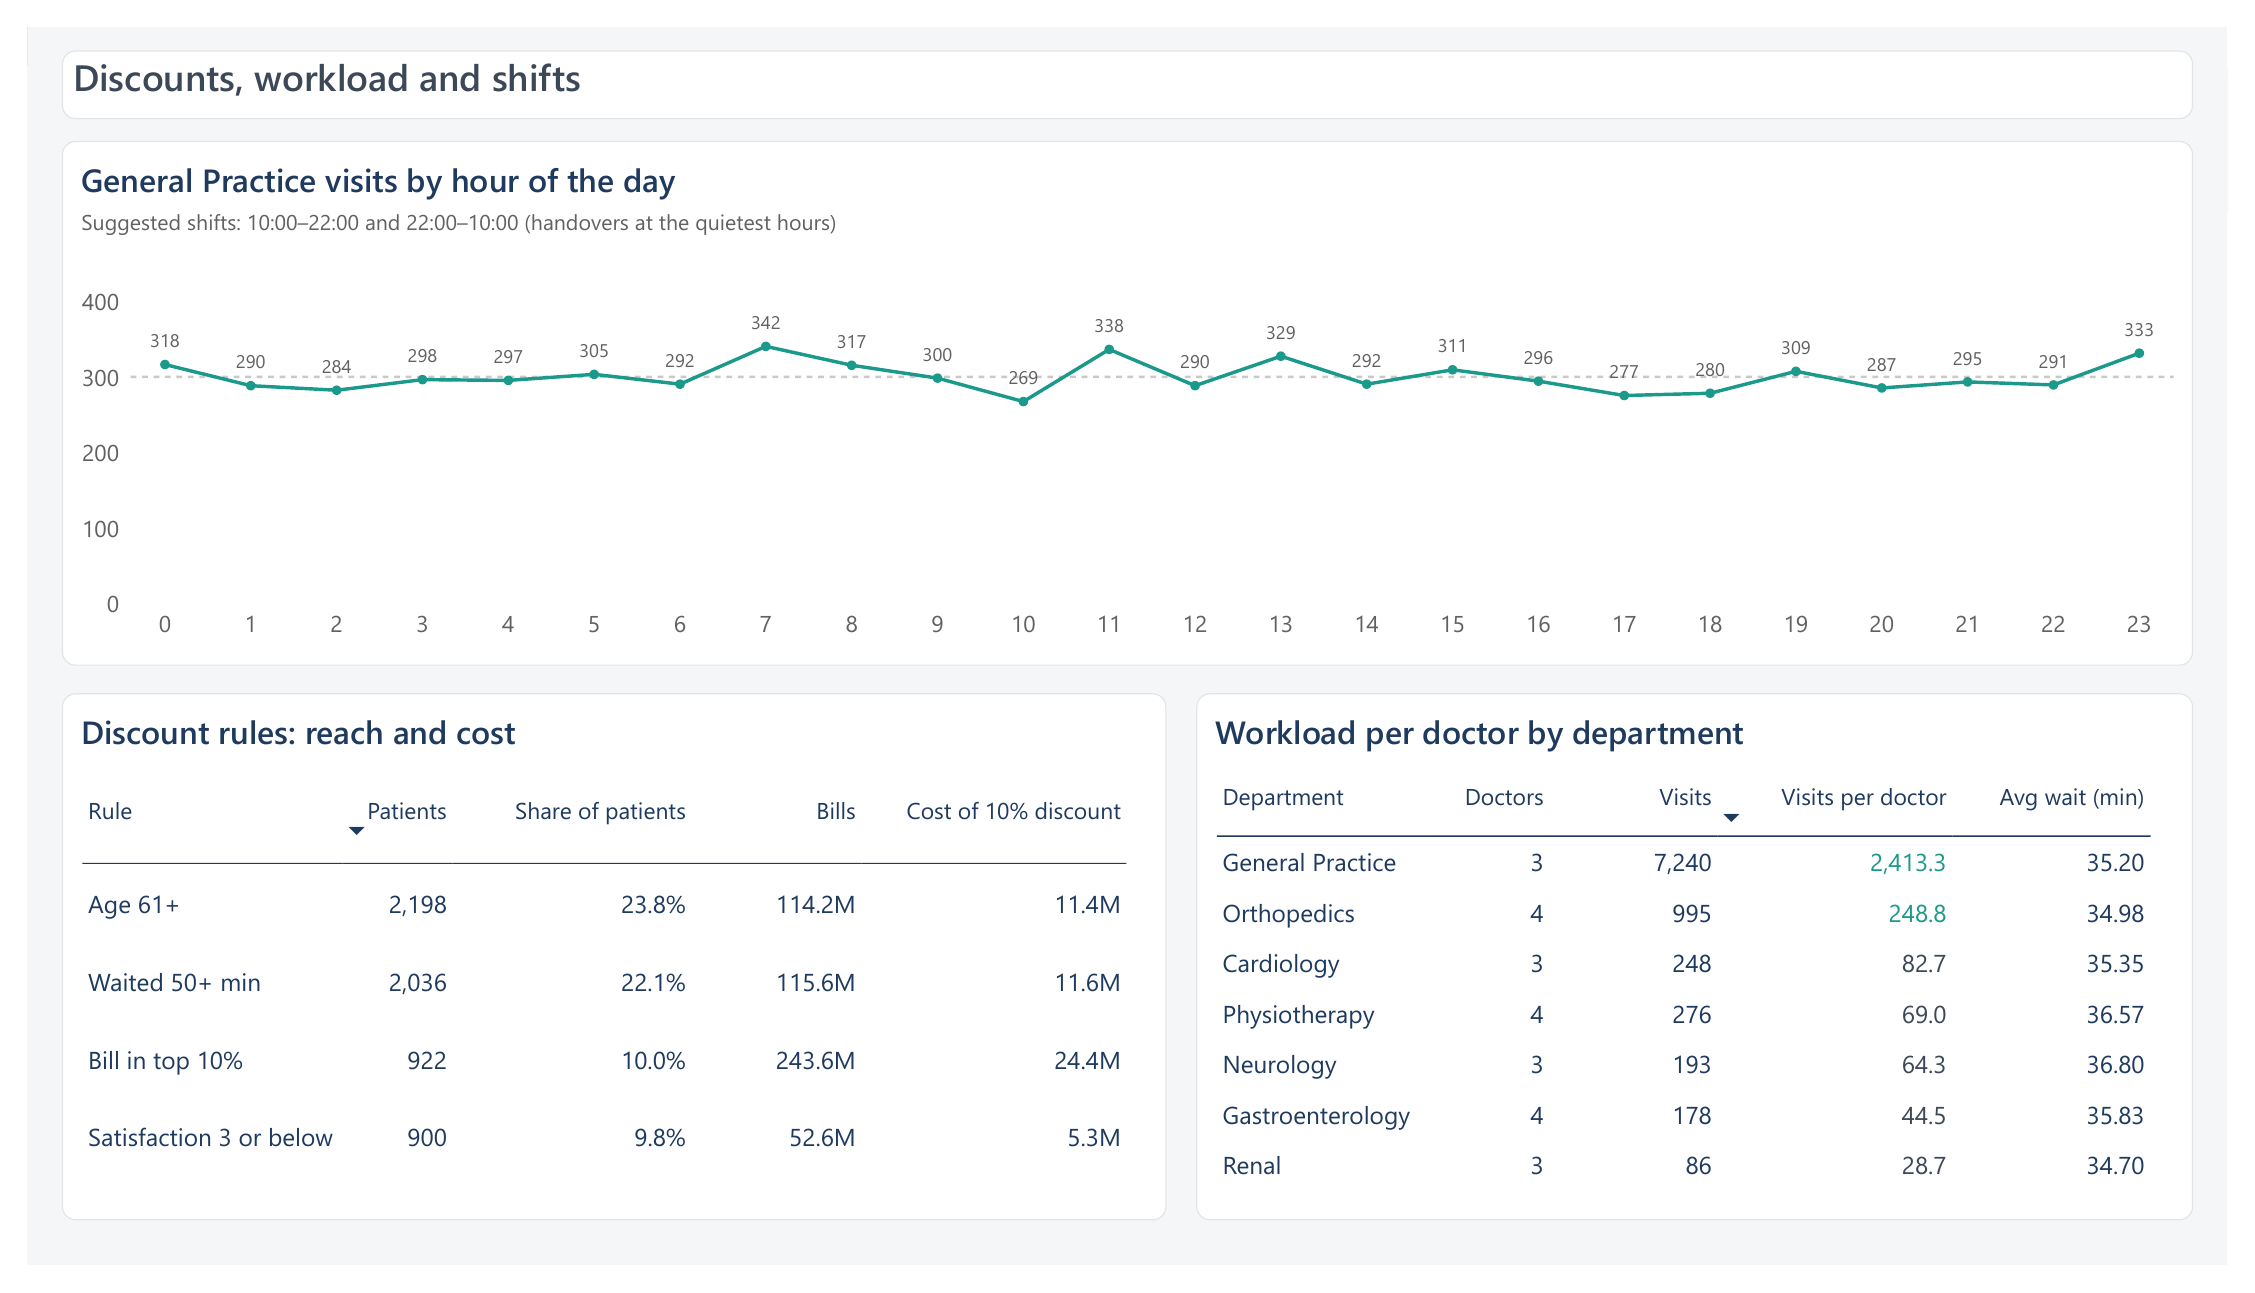

This screenshot's page, from the dashboard's own definition file:
{"tool":"powerbi","page":{"name":"Discounts and Shifts","canvas":[1920,1080],"ordinal":7},"visuals":[{"type":"textbox","box":[30,20,1860,60],"z":0},{"type":"tableEx","title":"Discount rules: reach and cost","fields":{"Values":["discount_rules.Rule","Sum(discount_rules.Patients)","Sum(discount_rules.Share of patients)","Sum(discount_rules.Bills)","Sum(discount_rules.Cost of 10% discount)"]},"box":[30.2,581,963.4,460.1],"z":1000},{"type":"tableEx","title":"Workload per doctor by department","fields":{"Values":["hospital_data.department_referral","hospital_data.doctor_count","hospital_data.total_visits","hospital_data.visits_per_doctor","hospital_data.avg_wait_time"]},"box":[1019.5,581,870.5,460.1],"z":2000},{"type":"lineChart","title":"General Practice visits by hour of the day","fields":{"Category":["hospital_data.visit_hour"],"Y":["hospital_data.total_visits"]},"box":[30.2,99.4,1859.8,457.9],"z":3000}]}

Visuals, with their boxes in screenshot pixels (x1, y1, x2, y2), scaled from the page's 1920x1080 canvas onto the 2255x1293 screenshot:
textbox: x1=35 y1=24 x2=2220 y2=96
"Discount rules: reach and cost" tableEx: x1=35 y1=696 x2=1167 y2=1246
"Workload per doctor by department" tableEx: x1=1197 y1=696 x2=2220 y2=1246
"General Practice visits by hour of the day" lineChart: x1=35 y1=119 x2=2220 y2=667
